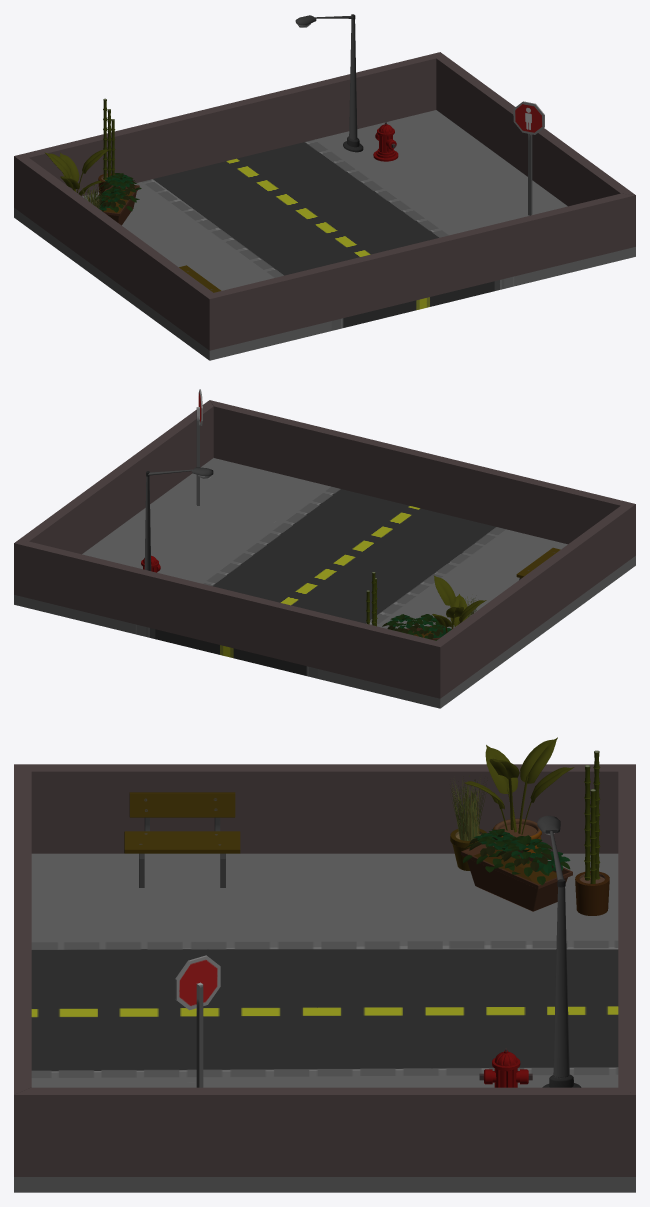
The model's file is stage2.fbx.
3 renders of one model, top to bottom at view 1: azimuth 30°, elevation 25°; view 2: azimuth 150°, elevation 25°; view 3: azimuth 270°, elevation 25°, orthographic. The views are drawn at different scales.
Visible parts, largest first — view 1: stage2:polySurface1; view 2: stage2:polySurface1; view 3: stage2:polySurface1.
Part boxes in pixels (x1,y1,x2,y2): stage2:polySurface1: (14, 14, 635, 360); stage2:polySurface1: (14, 389, 635, 708); stage2:polySurface1: (14, 737, 635, 1192).
Bounding box in the file's own units: 44.66 × 15.58 × 35.49.
